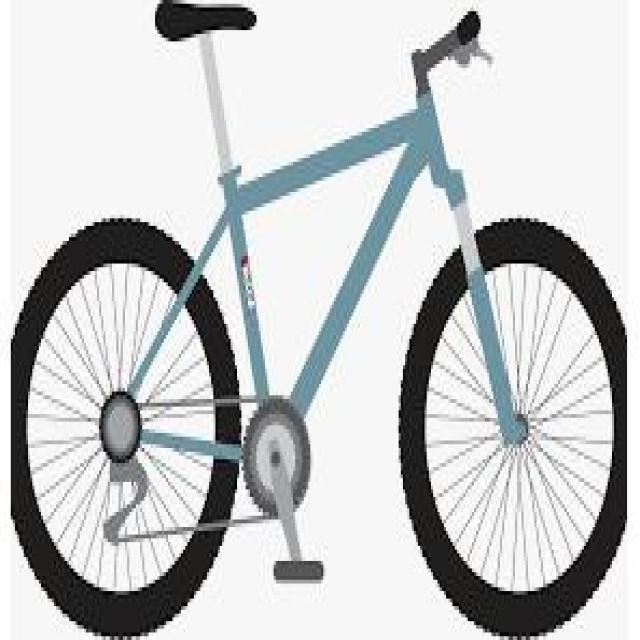bicycle: (14, 5, 628, 640)
